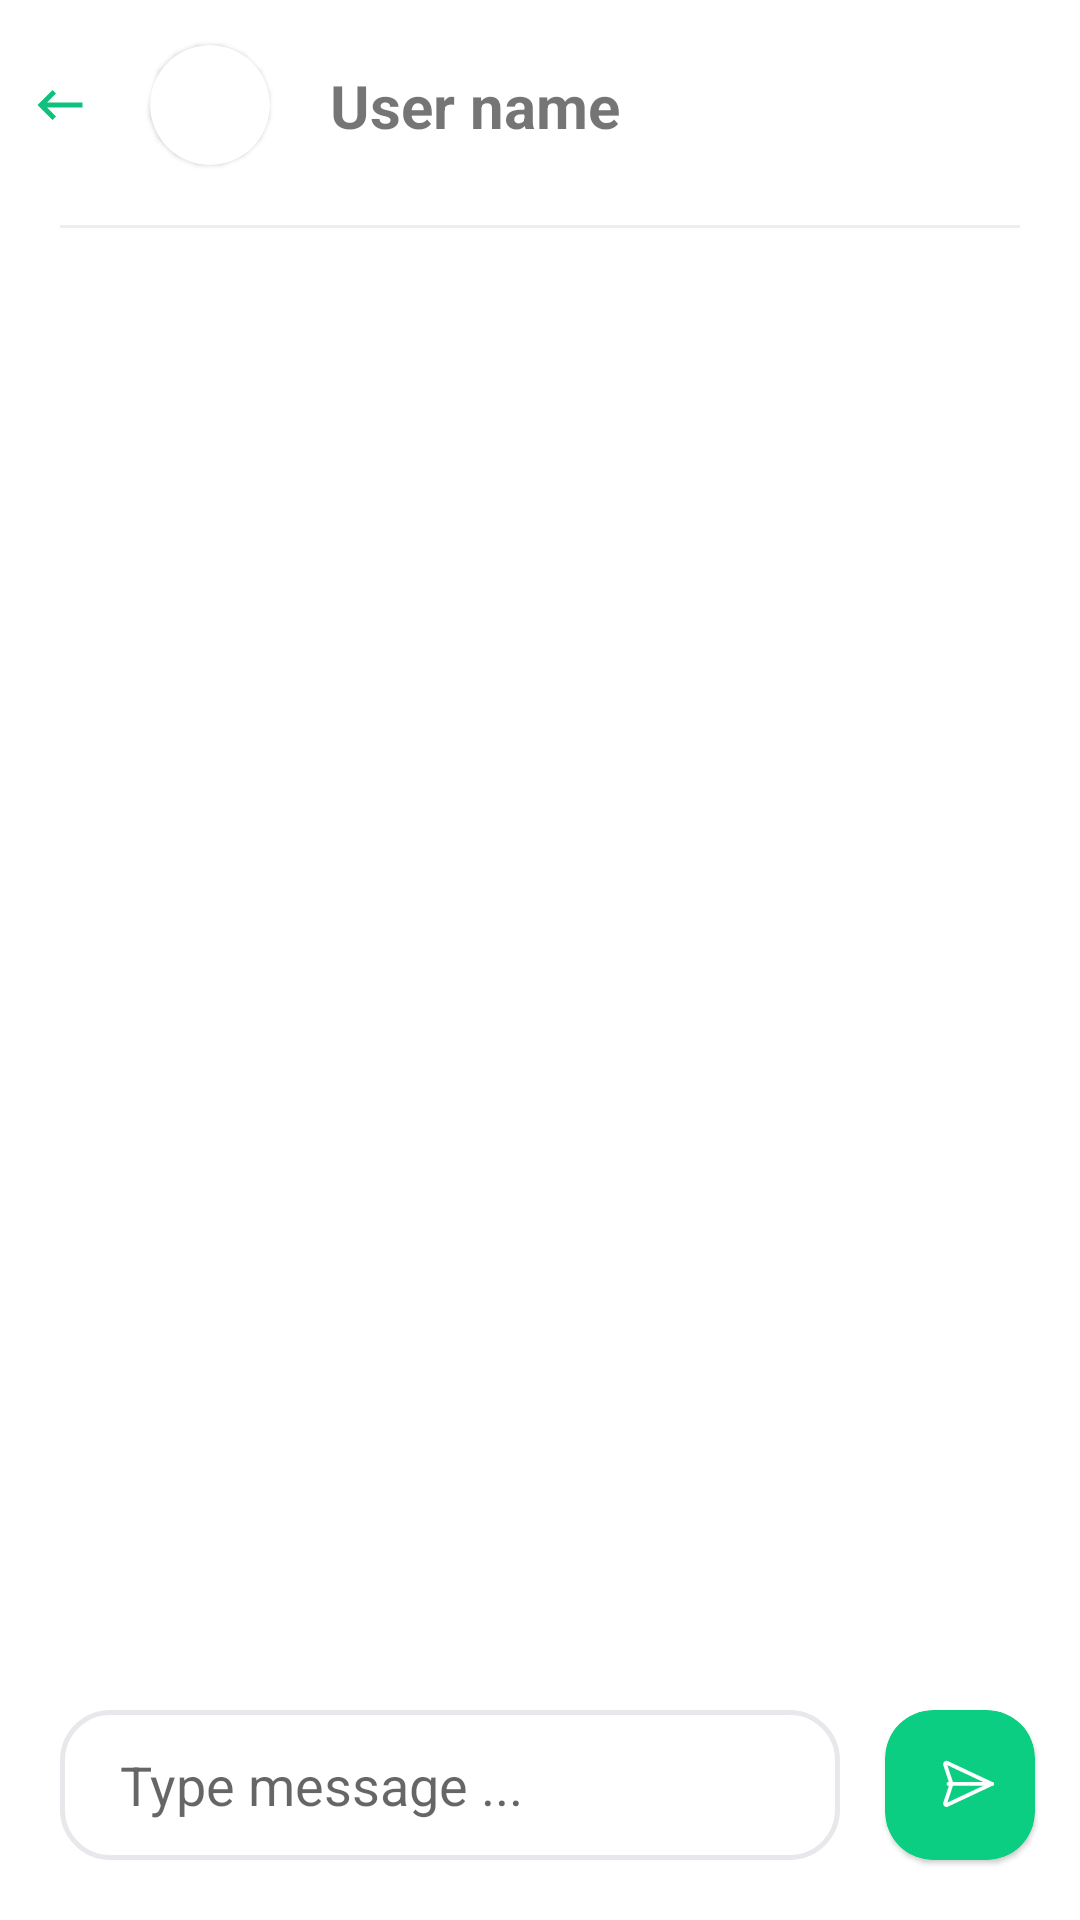

Screen size 1080px×1920px. Icon name, then its box in pixels as region(x1, y1, x2, y2):
keyboard backspace: region(37, 90, 83, 120)
send message: region(885, 1710, 1035, 1860)
